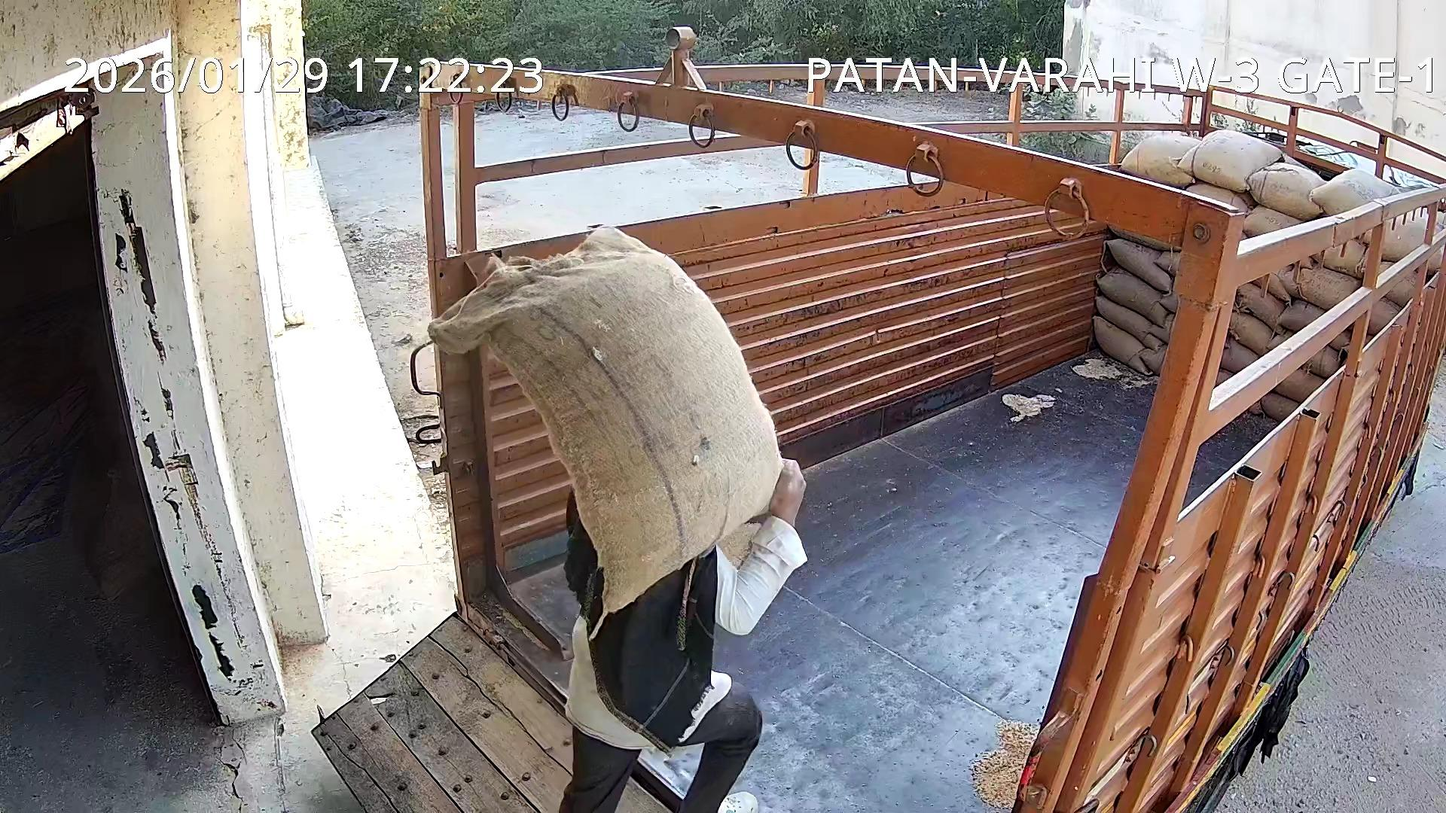Sack: (429, 227, 779, 614)
